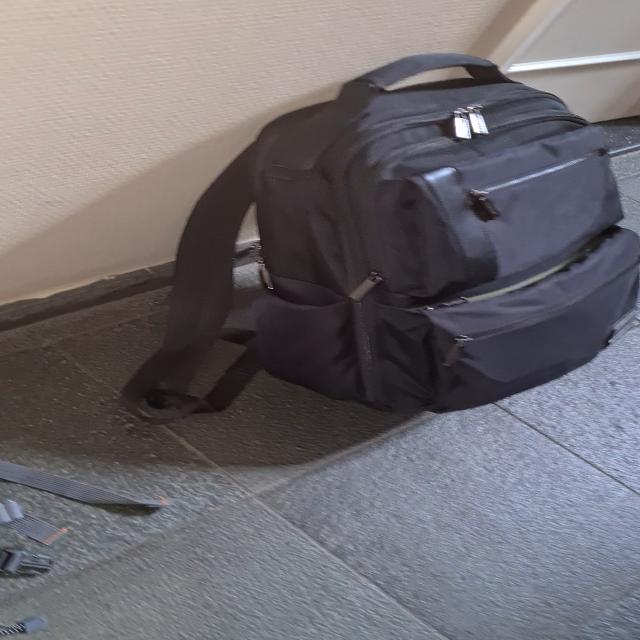backpack: (195, 44, 640, 422)
